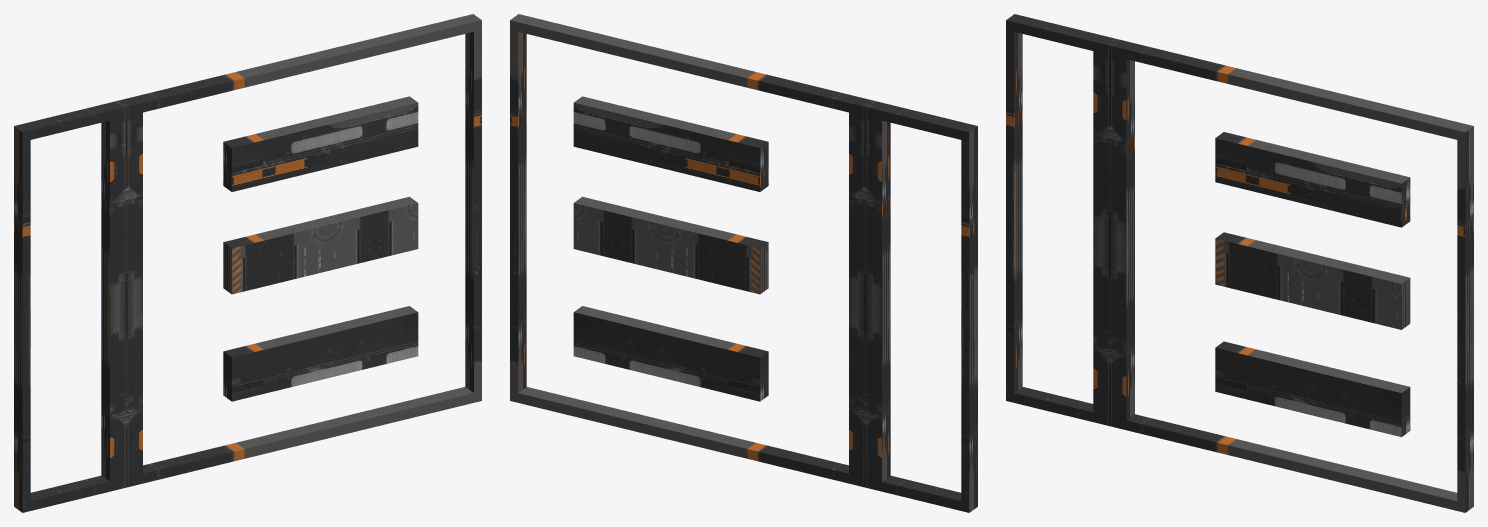
File: Level5.fbx
3 renders of one model, left to right at view 1: azimuth 30°, elevation 25°; view 2: azimuth 150°, elevation 25°; view 3: azimuth 330°, elevation 25°, orthographic.
Visible parts, largest first — view 1: Cube; view 2: Cube; view 3: Cube.
Part boxes in pixels (box(x1,y1,x2,y2)): Cube: box(14, 14, 481, 512); Cube: box(510, 14, 977, 512); Cube: box(1006, 14, 1473, 512).
Bounding box in the file's own units: 3199 × 2533 × 104.
